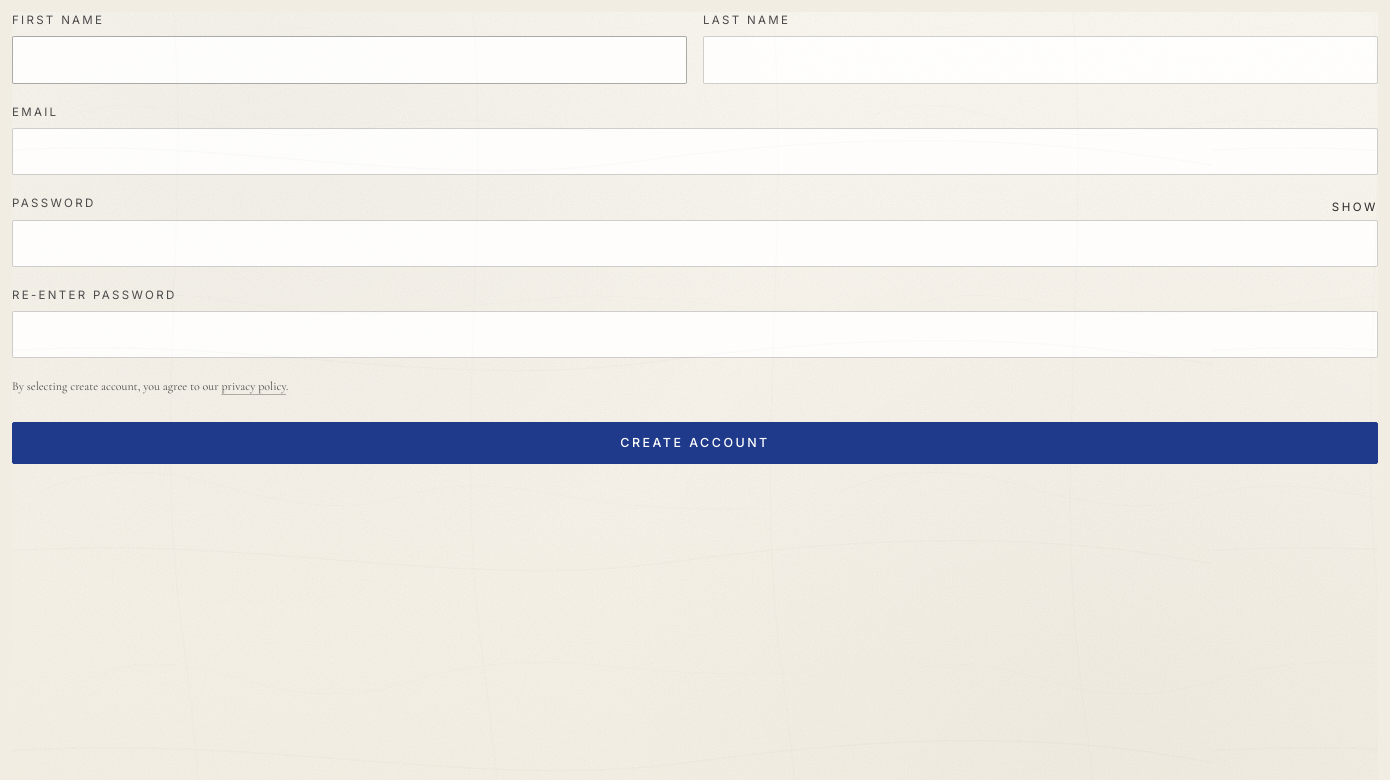
Test case: RegisterForm privacy notice › shows the mismatch message when the two passwords differ
The width and height of the screenshot is (1390, 780).
Step 1. Type "Strong1Pass!Word" into the password field labelled "Password" → coordinates (695, 243), box [12,220,1378,267]
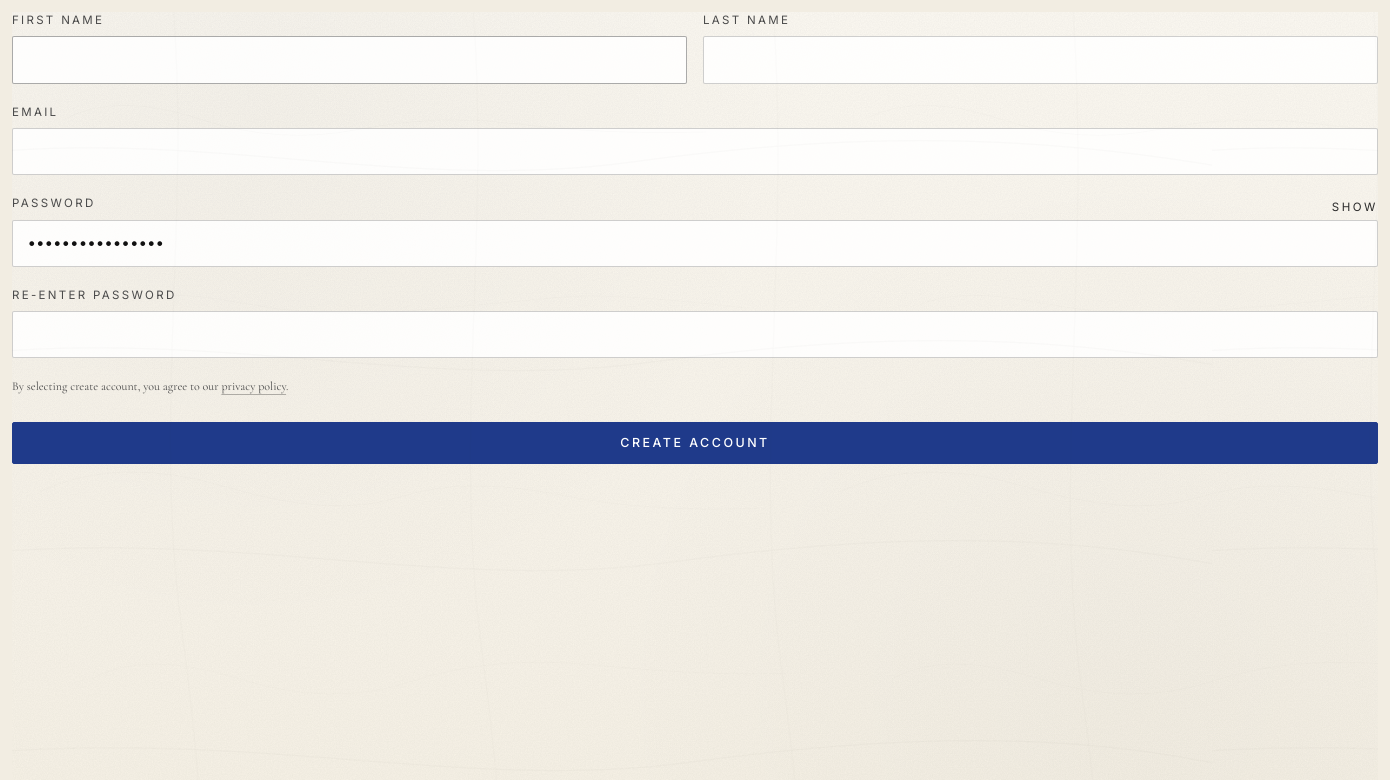
Step 2. Type "D1fferent!P@ssword" into the password field labelled "Re-enter password" → coordinates (695, 335), box [12,311,1378,358]
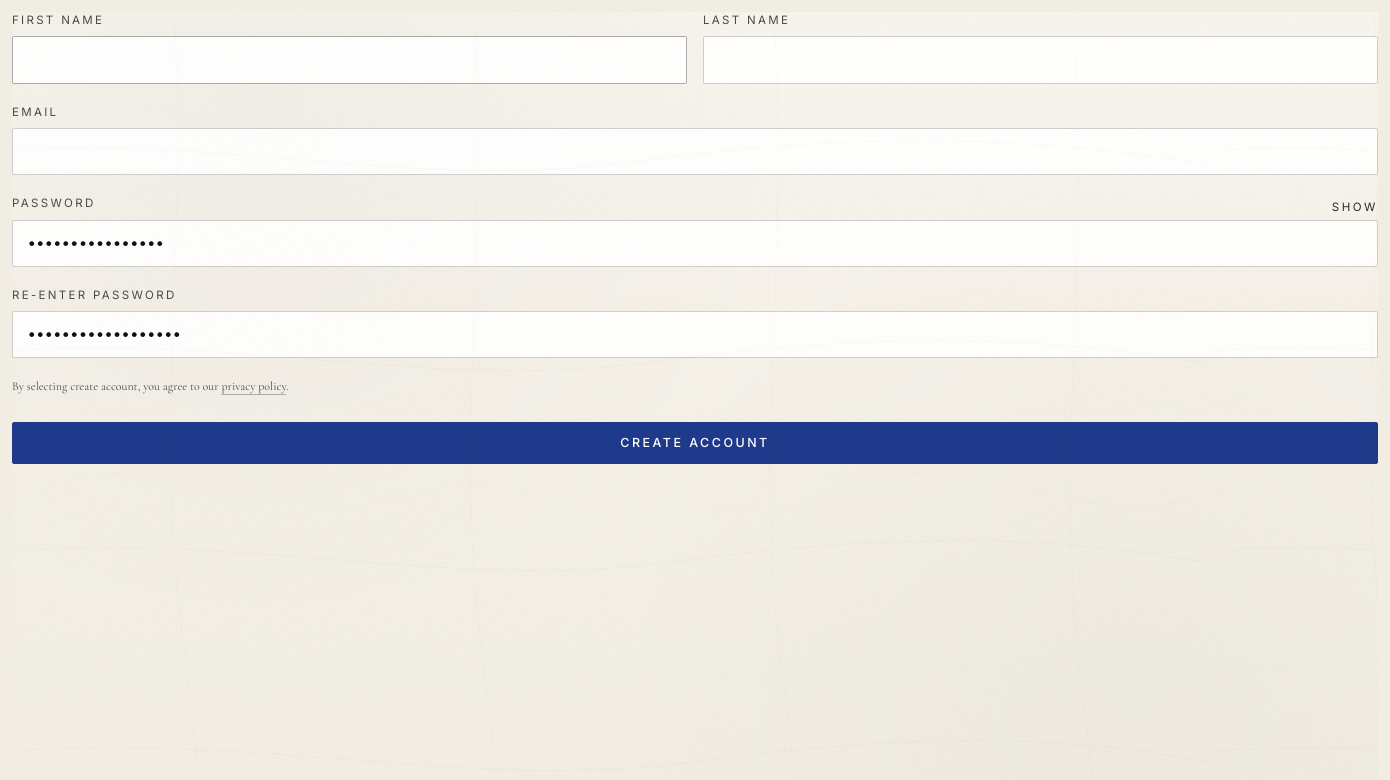
Step 3. Leave the password field labelled "Re-enter password", box [12,311,1378,358]
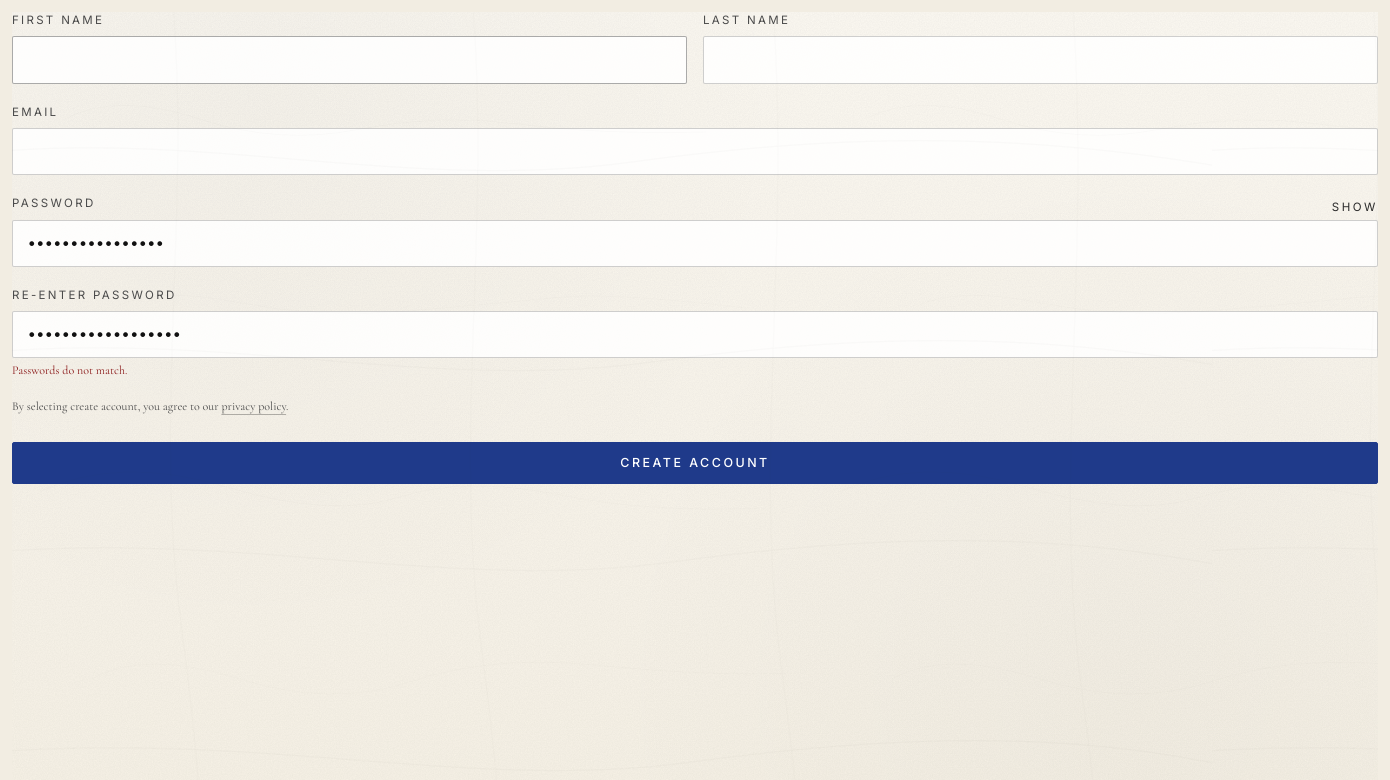
Now the text "Passwords do not match." is shown, box [12,363,127,377]
